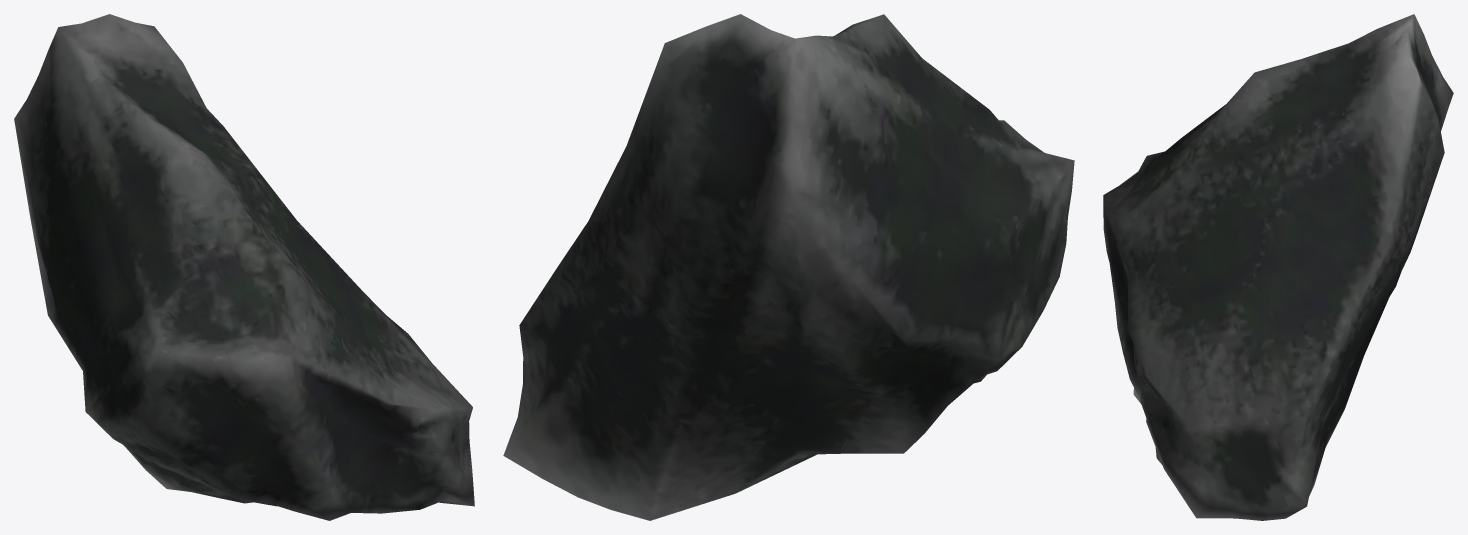
File: rockDemo_s_03.glb
The picture shows the model from 3 angles, left to right: view 1: azimuth 30°, elevation 25°; view 2: azimuth 150°, elevation 25°; view 3: azimuth 270°, elevation 25°; orthographic projection. The views are drawn at different scales.
Parts seen in each view (by area): view 1: Rock_s_03; view 2: Rock_s_03; view 3: Rock_s_03.
Boxes of the visible parts, left/top/right/bottom form: Rock_s_03: left=14, top=14, right=474, bottom=520; Rock_s_03: left=503, top=14, right=1074, bottom=520; Rock_s_03: left=1103, top=14, right=1453, bottom=520.
Size of the model in its own units: 0.2733 by 0.3406 by 0.2739.
1 material, 1 textured.
